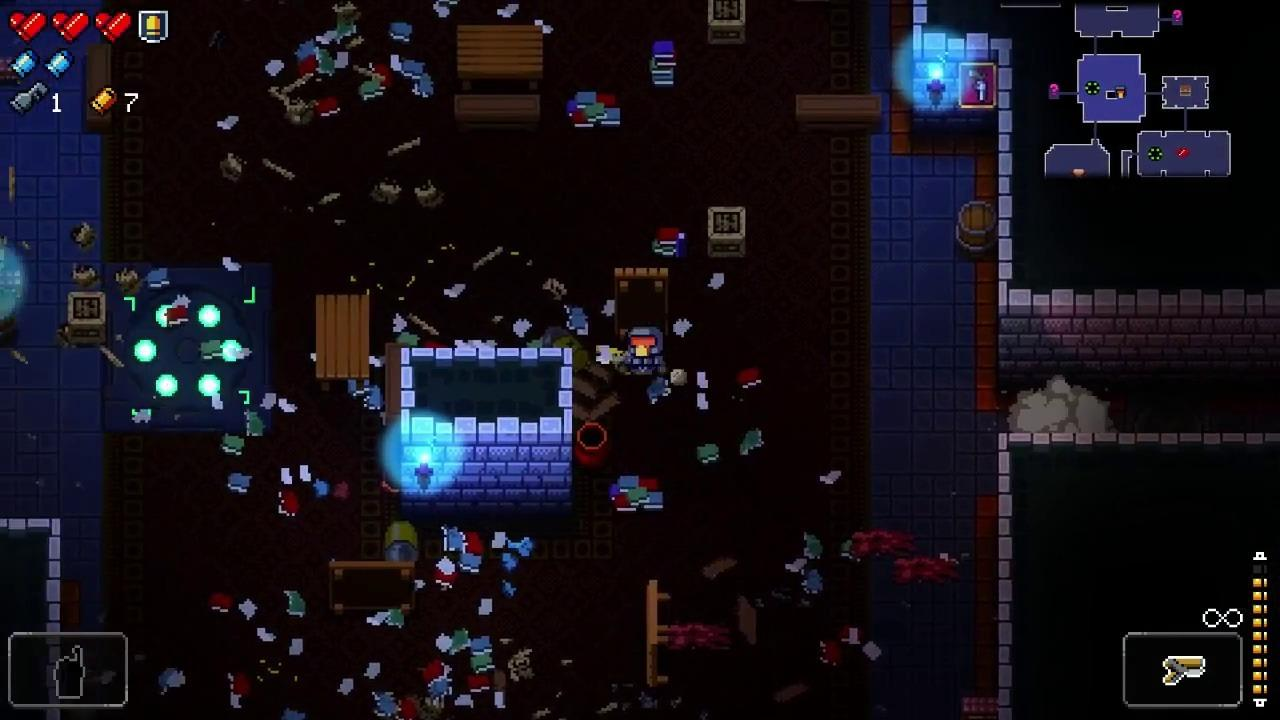dead_bullet_kin: (385, 521, 419, 563)
player: (625, 326, 666, 377)
pressure_plate: (1125, 380, 1213, 434)
table: (458, 26, 542, 90), (316, 294, 370, 390), (329, 561, 415, 615), (614, 268, 670, 337), (647, 580, 670, 686)
teleporter: (102, 261, 274, 435)
wall: (401, 347, 572, 518)
